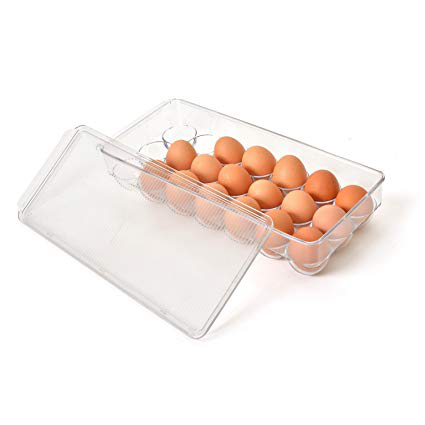egg: (141, 134, 375, 270)
